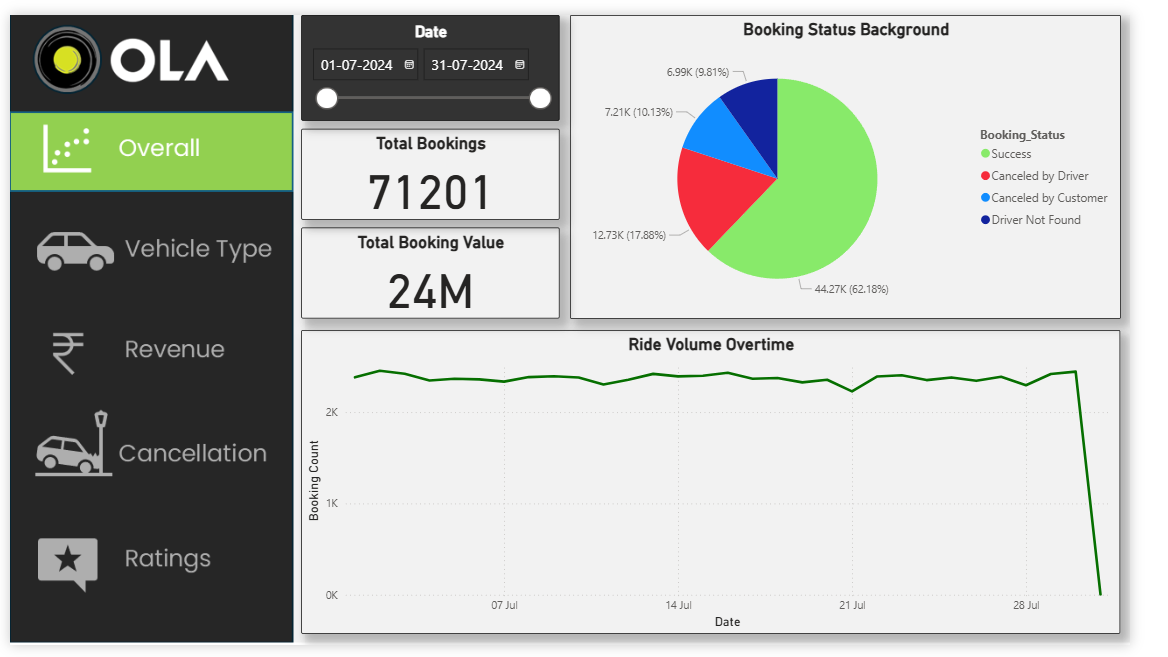

What the dashboard file says about the page in this screenshot:
{"tool":"powerbi","page":{"name":"Overall","canvas":[1280,720],"ordinal":0},"visuals":[{"type":"actionButton","box":[0,222.1,322.7,95.7],"z":0},{"type":"actionButton","box":[0,338.7,322.7,90.8],"z":1000},{"type":"actionButton","box":[0,444.2,322.7,90.8],"z":2000},{"type":"actionButton","box":[0,579.1,322.7,90.8],"z":3000},{"type":"actionButton","box":[0,109.8,322.5,89.2],"z":4000},{"type":"lineChart","title":"Ride Volume Overtime","fields":{"Y":["CountNonNull(Bookings.Booking_ID)"],"Category":["Bookings.Date"]},"box":[333.4,359.5,935.9,347.2],"z":5000},{"type":"pieChart","title":"Booking Status Background","fields":{"Category":["Bookings.Booking_Status"],"Y":["CountNonNull(Bookings.Booking_ID)"]},"box":[639.5,0,629.8,347.2],"z":6000},{"type":"slicer","title":"Date","fields":{"Values":["Bookings.Date"]},"box":[333.4,0,295,120.8],"z":7000},{"type":"card","title":"Total Bookings","fields":{"Values":["Count(Bookings.Booking_ID)"]},"box":[333.4,130.4,295,104.3],"z":8000},{"type":"card","title":"Total Booking Value","fields":{"Values":["Sum(Bookings.Booking_Value)"]},"box":[333.4,242.9,295,104.3],"z":9000}]}

Visuals, with their boxes in screenshot pixels (x1, y1, x2, y2), scaled from the page's 1280x720 canvas onto the 1168x657 screenshot:
actionButton: crop(0, 203, 294, 290)
actionButton: crop(0, 309, 294, 392)
actionButton: crop(0, 405, 294, 488)
actionButton: crop(0, 528, 294, 611)
actionButton: crop(0, 100, 294, 182)
"Ride Volume Overtime" lineChart: crop(304, 328, 1158, 645)
"Booking Status Background" pieChart: crop(584, 0, 1158, 317)
"Date" slicer: crop(304, 0, 573, 110)
"Total Bookings" card: crop(304, 119, 573, 214)
"Total Booking Value" card: crop(304, 222, 573, 317)
